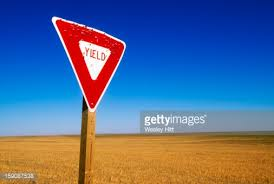yield_sign: (51, 15, 126, 111)
